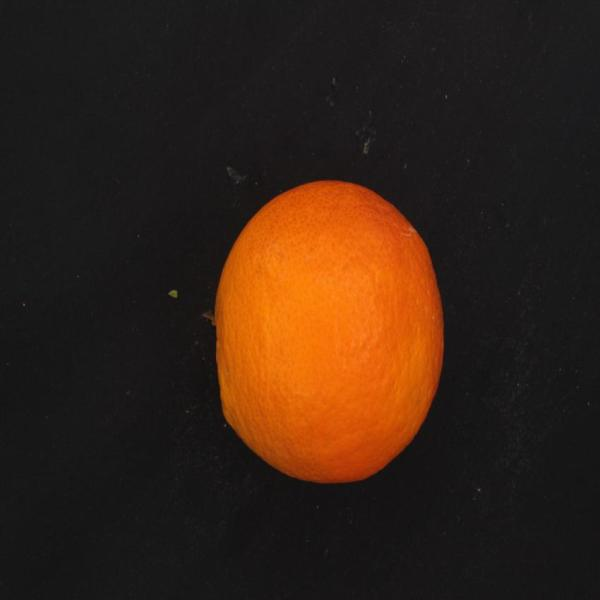Sana: (201, 169, 452, 491)
